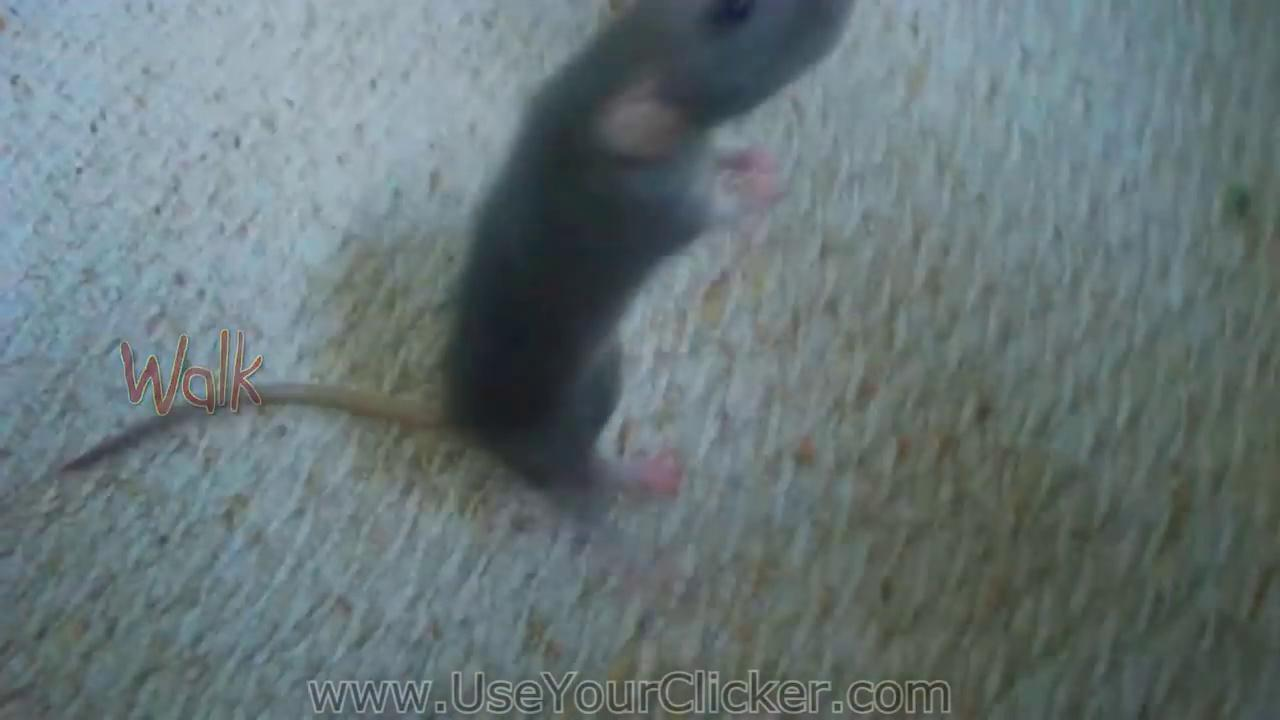rat: (64, 0, 855, 524)
